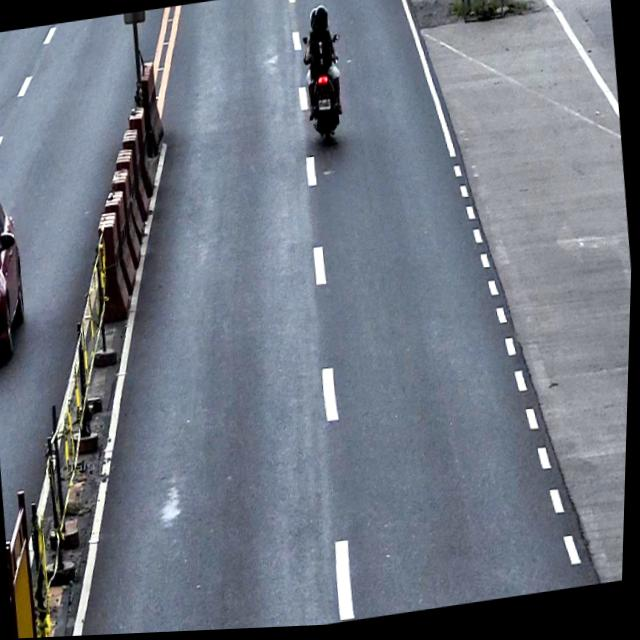Car: (0, 180, 34, 359)
License-Plate: (317, 98, 331, 115)
Motorcycle: (298, 32, 350, 150)
